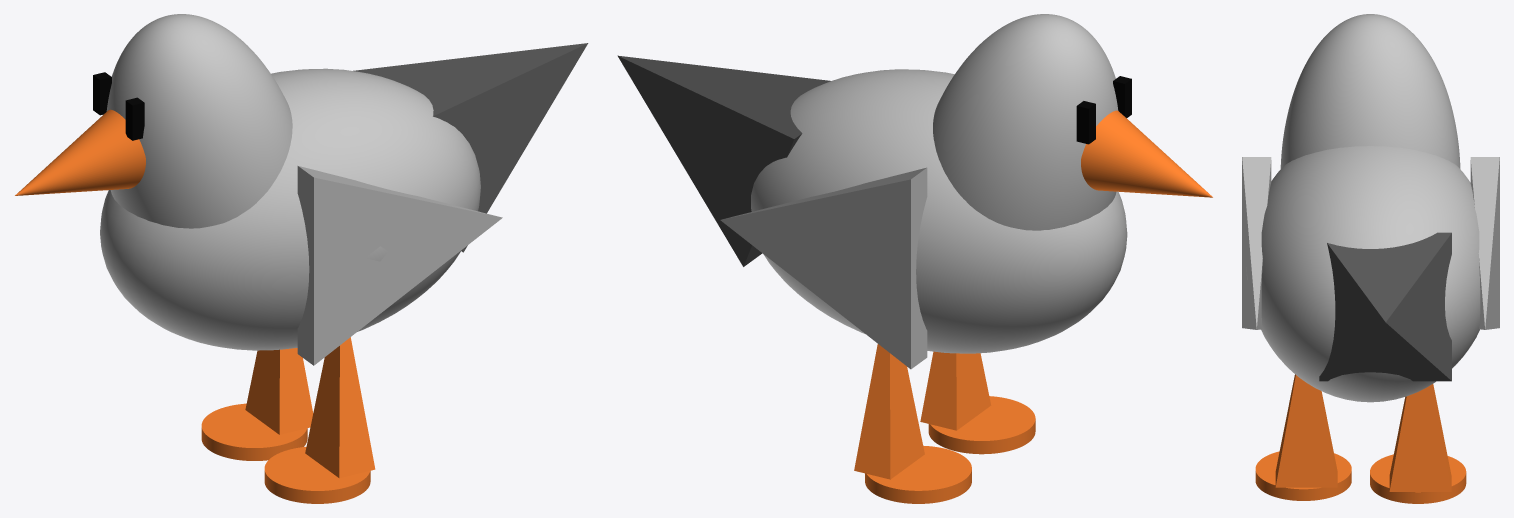
File: Beach_Seagull.glb
The picture shows the model from 3 angles, left to right: view 1: azimuth 30°, elevation 25°; view 2: azimuth 150°, elevation 25°; view 3: azimuth 270°, elevation 25°; orthographic projection. The views are drawn at different scales.
Parts seen in each view (by area): view 1: mesh_id27.003, mesh_id29, mesh_id47.001, mesh_id43.002, mesh_id40.001, mesh_id31, mesh_id39.001, mesh_id85, mesh_id79, mesh_id60, mesh_id73.002; view 2: mesh_id27.003, mesh_id29, mesh_id53.001, mesh_id43.002, mesh_id31, mesh_id39.001, mesh_id40.001, mesh_id79, mesh_id85, mesh_id73.002; view 3: mesh_id27.003, mesh_id29, mesh_id43.002, mesh_id40.001, mesh_id39.001, mesh_id53.001, mesh_id47.001, mesh_id85, mesh_id79.
Part boxes in pixels (<box>): mesh_id27.003: <box>100,68,480,350</box>; mesh_id29: <box>106,14,292,228</box>; mesh_id47.001: <box>297,166,502,365</box>; mesh_id43.002: <box>353,43,588,252</box>; mesh_id40.001: <box>305,337,375,478</box>; mesh_id31: <box>15,109,145,195</box>; mesh_id39.001: <box>245,348,313,434</box>; mesh_id85: <box>264,446,370,503</box>; mesh_id79: <box>201,403,307,460</box>; mesh_id60: <box>125,97,144,140</box>; mesh_id73.002: <box>93,72,111,115</box>; mesh_id27.003: <box>751,69,1127,353</box>; mesh_id29: <box>933,14,1118,230</box>; mesh_id53.001: <box>720,167,927,369</box>; mesh_id43.002: <box>617,55,830,266</box>; mesh_id31: <box>1081,110,1212,197</box>; mesh_id39.001: <box>854,344,924,479</box>; mesh_id40.001: <box>920,351,991,430</box>; mesh_id79: <box>865,445,971,503</box>; mesh_id85: <box>928,396,1035,454</box>; mesh_id73.002: <box>1076,101,1095,144</box>; mesh_id27.003: <box>1246,146,1480,402</box>; mesh_id29: <box>1280,14,1460,168</box>; mesh_id43.002: <box>1319,232,1451,381</box>; mesh_id40.001: <box>1275,374,1337,487</box>; mesh_id39.001: <box>1389,384,1451,491</box>; mesh_id53.001: <box>1470,157,1499,329</box>; mesh_id47.001: <box>1242,157,1271,329</box>; mesh_id85: <box>1255,451,1351,500</box>; mesh_id79: <box>1370,454,1466,503</box>.
Bounding box in the file's own units: 0.3262 × 0.2477 × 0.1376.
Materials: 12 (12 with a texture image).
